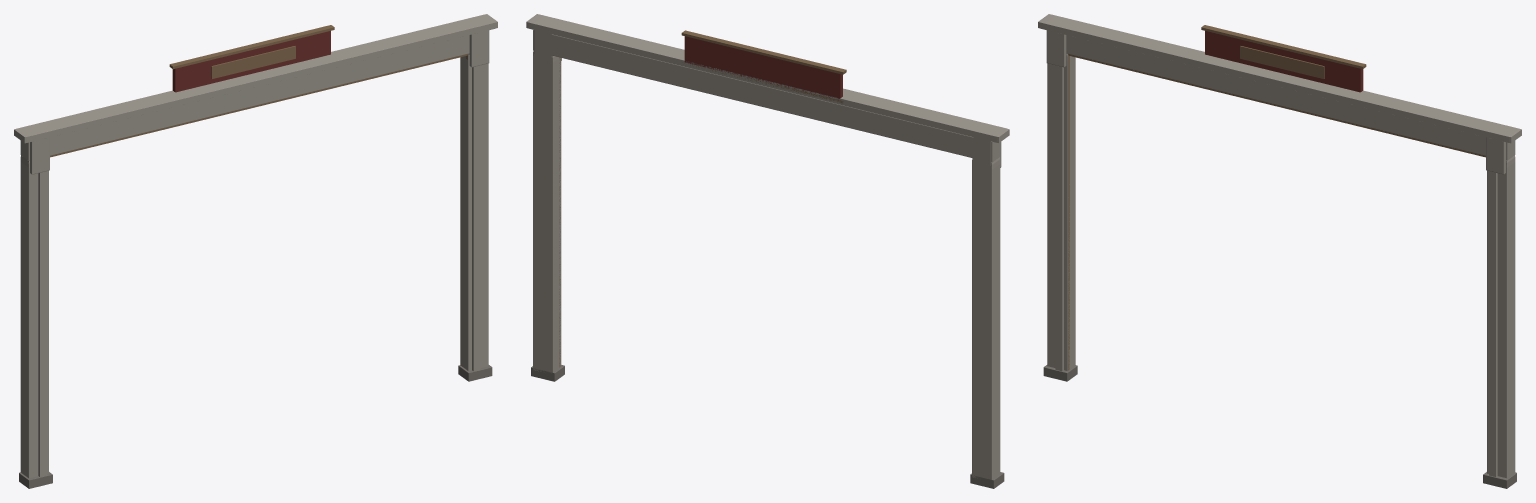
The model's file is arch_door.glb.
The picture shows the model from 3 angles, left to right: view 1: azimuth 30°, elevation 25°; view 2: azimuth 150°, elevation 25°; view 3: azimuth 330°, elevation 25°; orthographic projection.
Parts seen in each view (by area): view 1: arch_door; view 2: arch_door; view 3: arch_door.
Boxes of the visible parts, left/top/right/bottom form: arch_door: left=14, top=14, right=497, bottom=488; arch_door: left=526, top=14, right=1009, bottom=488; arch_door: left=1038, top=14, right=1521, bottom=488.
Bounding box in the file's own units: 7.9 × 6.07 × 0.32.
